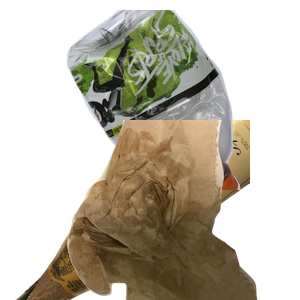glass: (13, 120, 253, 300)
metal: (89, 48, 276, 192)
plastic: (64, 10, 300, 190)
trash: (65, 120, 300, 300)
